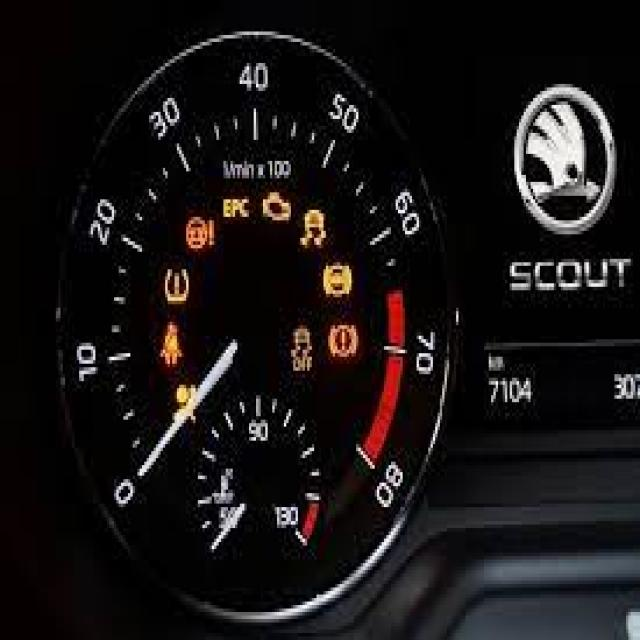kontrolka: (322, 320, 364, 373), (286, 318, 319, 382), (295, 208, 329, 256), (158, 263, 192, 311), (298, 204, 330, 252), (298, 203, 328, 253), (258, 190, 294, 231), (183, 214, 214, 253), (218, 190, 252, 224), (218, 192, 250, 225)
